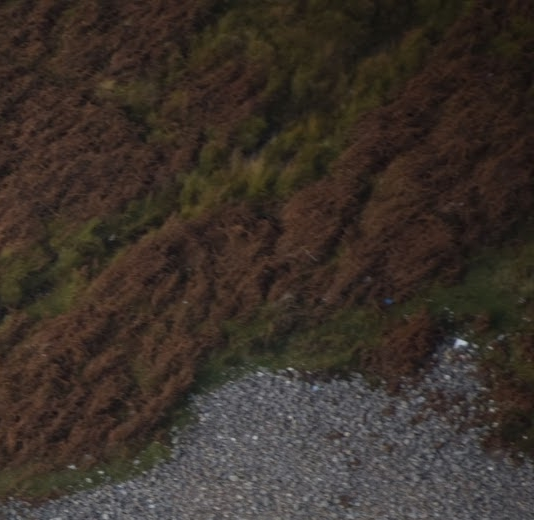white_in_green: (432, 314, 490, 367)
